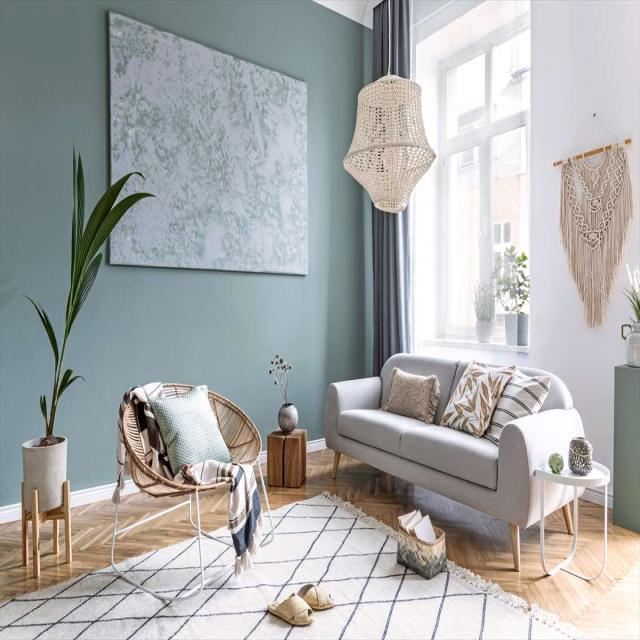modern sofa: (324, 348, 586, 552)
